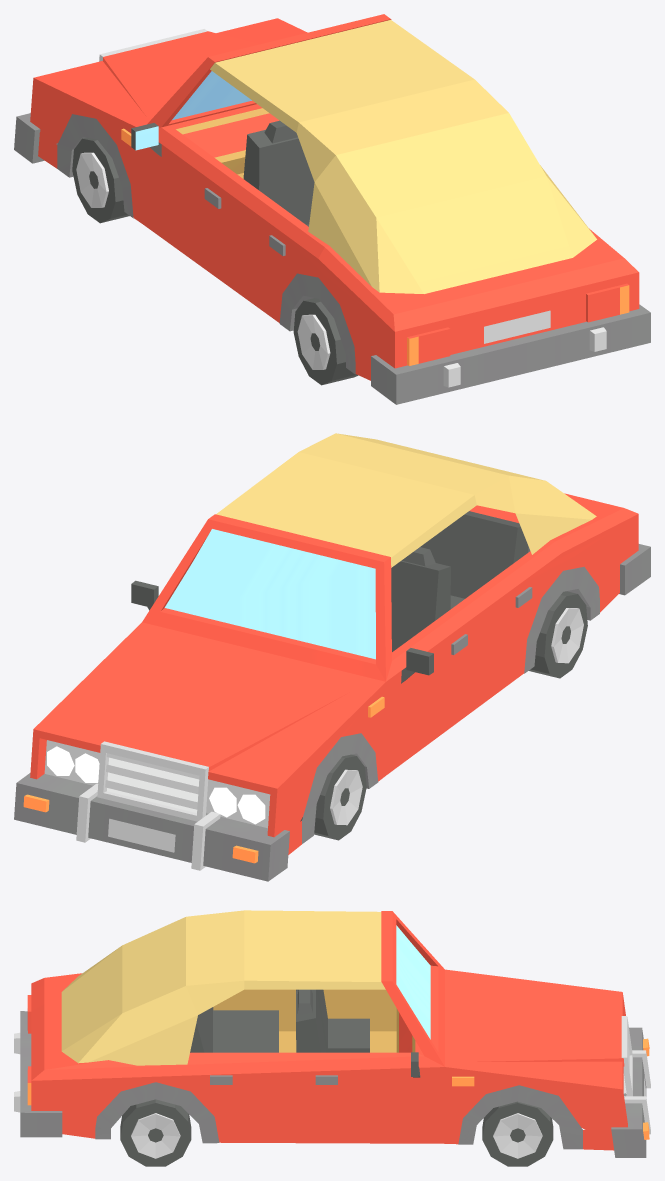
The model's file is transport_cool.002.glb.
3 renders of one model, top to bottom at view 1: azimuth 30°, elevation 25°; view 2: azimuth 150°, elevation 25°; view 3: azimuth 270°, elevation 25°, orthographic. The views are drawn at different scales.
Parts seen in each view (by area): view 1: transport_cool.002(Clone); view 2: transport_cool.002(Clone); view 3: transport_cool.002(Clone).
Part boxes in pixels (x1,y1,x2,y2): transport_cool.002(Clone): (14,14,650,404); transport_cool.002(Clone): (14,433,650,881); transport_cool.002(Clone): (14,910,650,1166).
Bounding box in the file's own units: 1.48 × 0.9918 × 3.34.
Materials: 1 (1 with a texture image).
